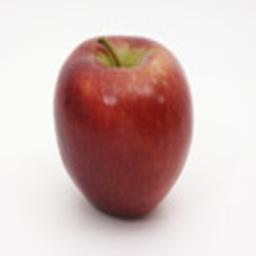apple: (50, 35, 194, 221)
